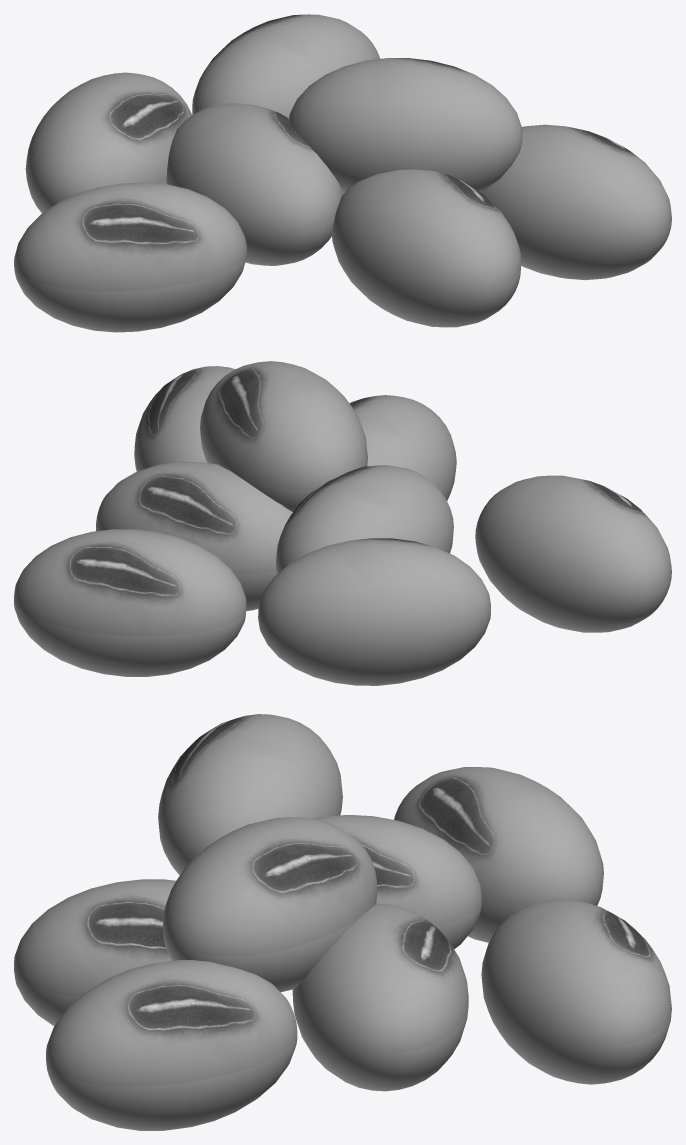
File: soy_bean.obj
3 renders of one model, top to bottom at view 1: azimuth 30°, elevation 25°; view 2: azimuth 150°, elevation 25°; view 3: azimuth 270°, elevation 25°, orthographic. The views are drawn at different scales.
Parts seen in each view (by area): view 1: object_7, object_2, object_6, object_3, object_1, object_8, object_5; view 2: object_8, object_5, object_7, object_6, object_4, object_1, object_2, object_3; view 3: object_3, object_5, object_6, object_4, object_8, object_7, object_2, object_1.
Part boxes in pixels (x1,y1,x2,y2): object_7: (14, 182, 246, 332); object_2: (331, 169, 521, 327); object_6: (288, 58, 522, 193); object_3: (480, 124, 671, 280); object_1: (166, 103, 342, 265); object_8: (25, 72, 191, 213); object_5: (192, 14, 380, 117); object_8: (258, 538, 490, 685); object_5: (14, 529, 246, 676); object_7: (475, 475, 671, 632); object_6: (200, 361, 367, 511); object_4: (96, 461, 292, 610); object_1: (276, 465, 453, 573); object_2: (349, 395, 456, 500); object_3: (134, 366, 234, 471); object_3: (46, 960, 297, 1130); object_5: (481, 899, 671, 1084); object_6: (163, 817, 377, 992); object_4: (292, 903, 468, 1091); object_8: (394, 767, 603, 942); object_7: (158, 714, 342, 875); object_2: (14, 879, 175, 1026); object_1: (311, 815, 481, 949).
Bounding box in the file's own units: 0.5859 × 0.1951 × 0.5164.
Materials: 1 (1 with a texture image).
